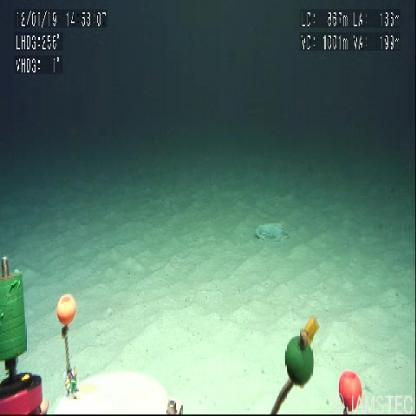Rác: (256, 223, 286, 241)
